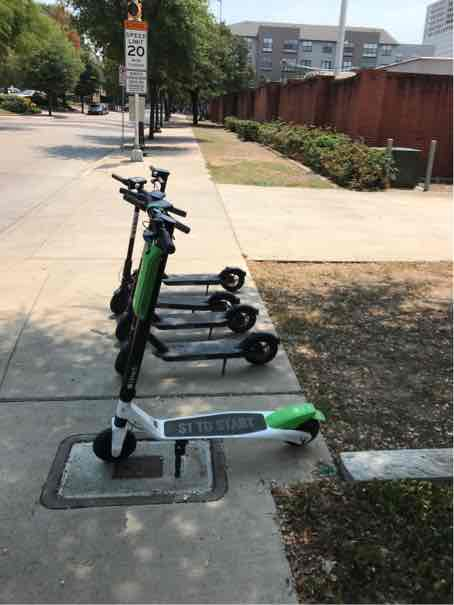scooter: (94, 175, 329, 484)
